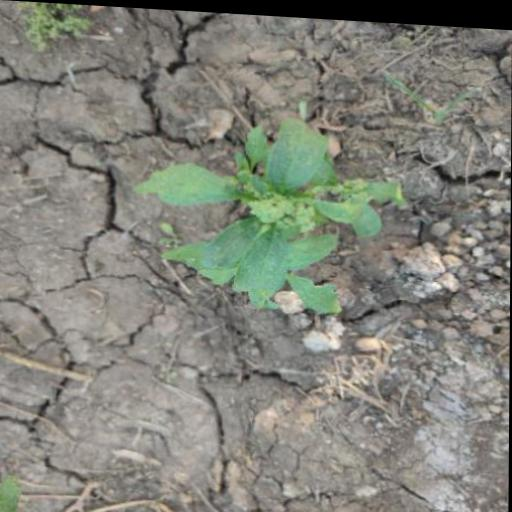weed: (135, 103, 402, 314), (2, 0, 119, 51), (0, 469, 37, 512)
